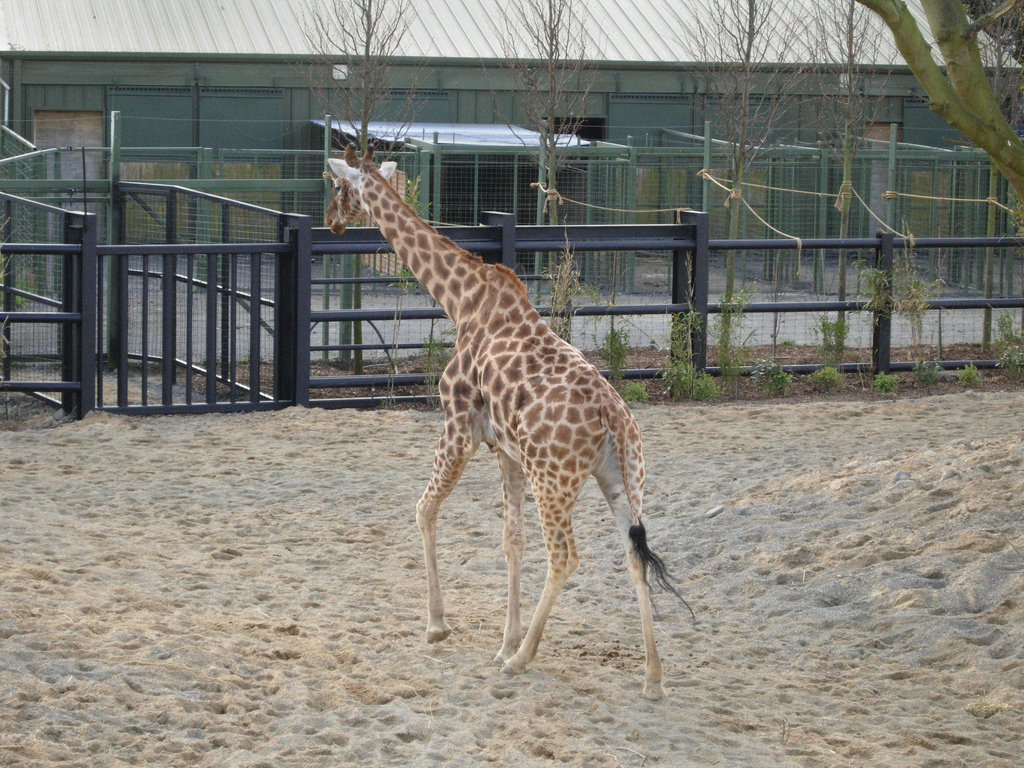giraffe: (318, 138, 694, 722)
